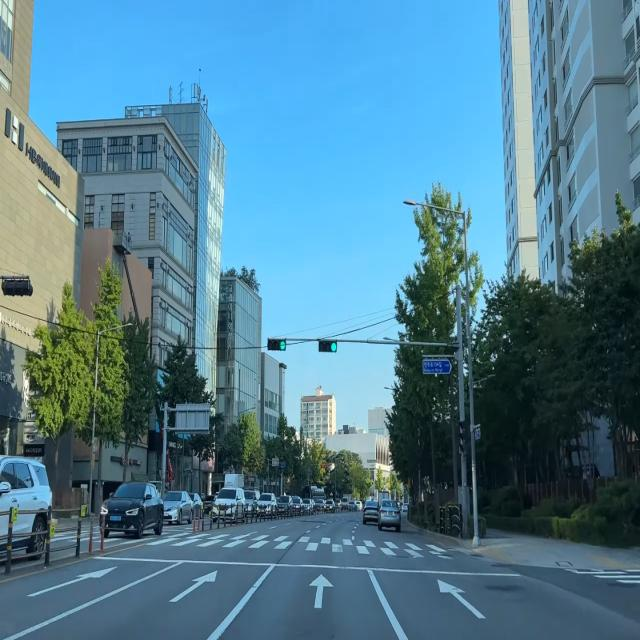Green Light: (330, 341, 337, 352), (279, 340, 286, 350)
